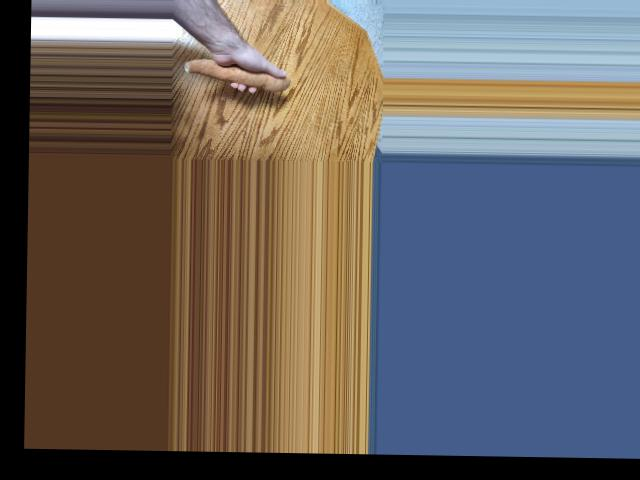sweet_potato: (179, 54, 289, 93)
